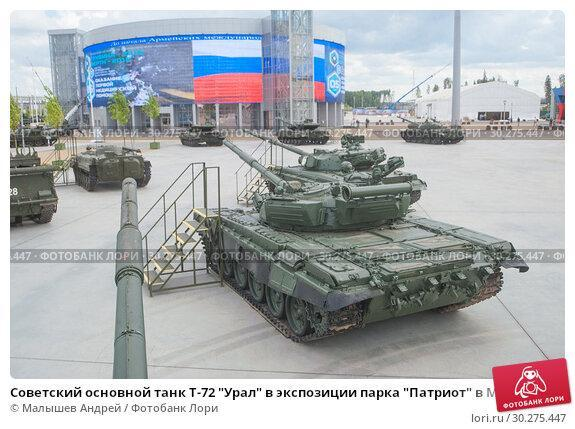tank: (187, 123, 511, 336), (59, 133, 168, 195), (1, 149, 60, 232), (389, 111, 470, 149), (268, 109, 337, 152), (8, 120, 67, 151), (179, 117, 229, 152)
